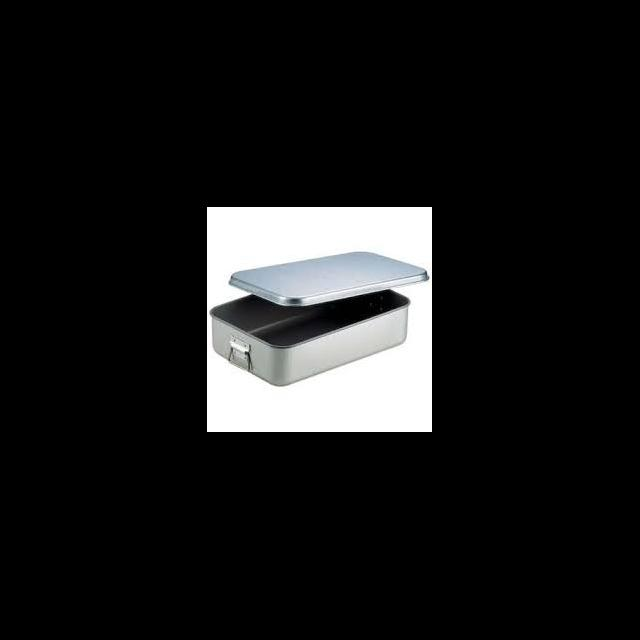metal: (210, 293, 410, 387), (227, 252, 428, 306)
